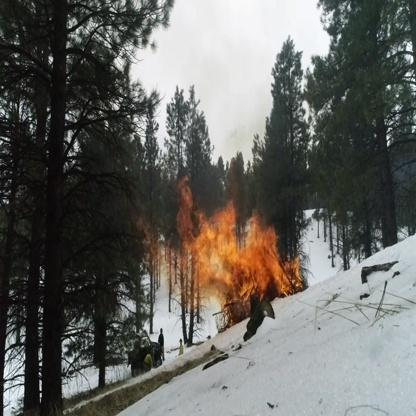Fire: (138, 160, 311, 330)
